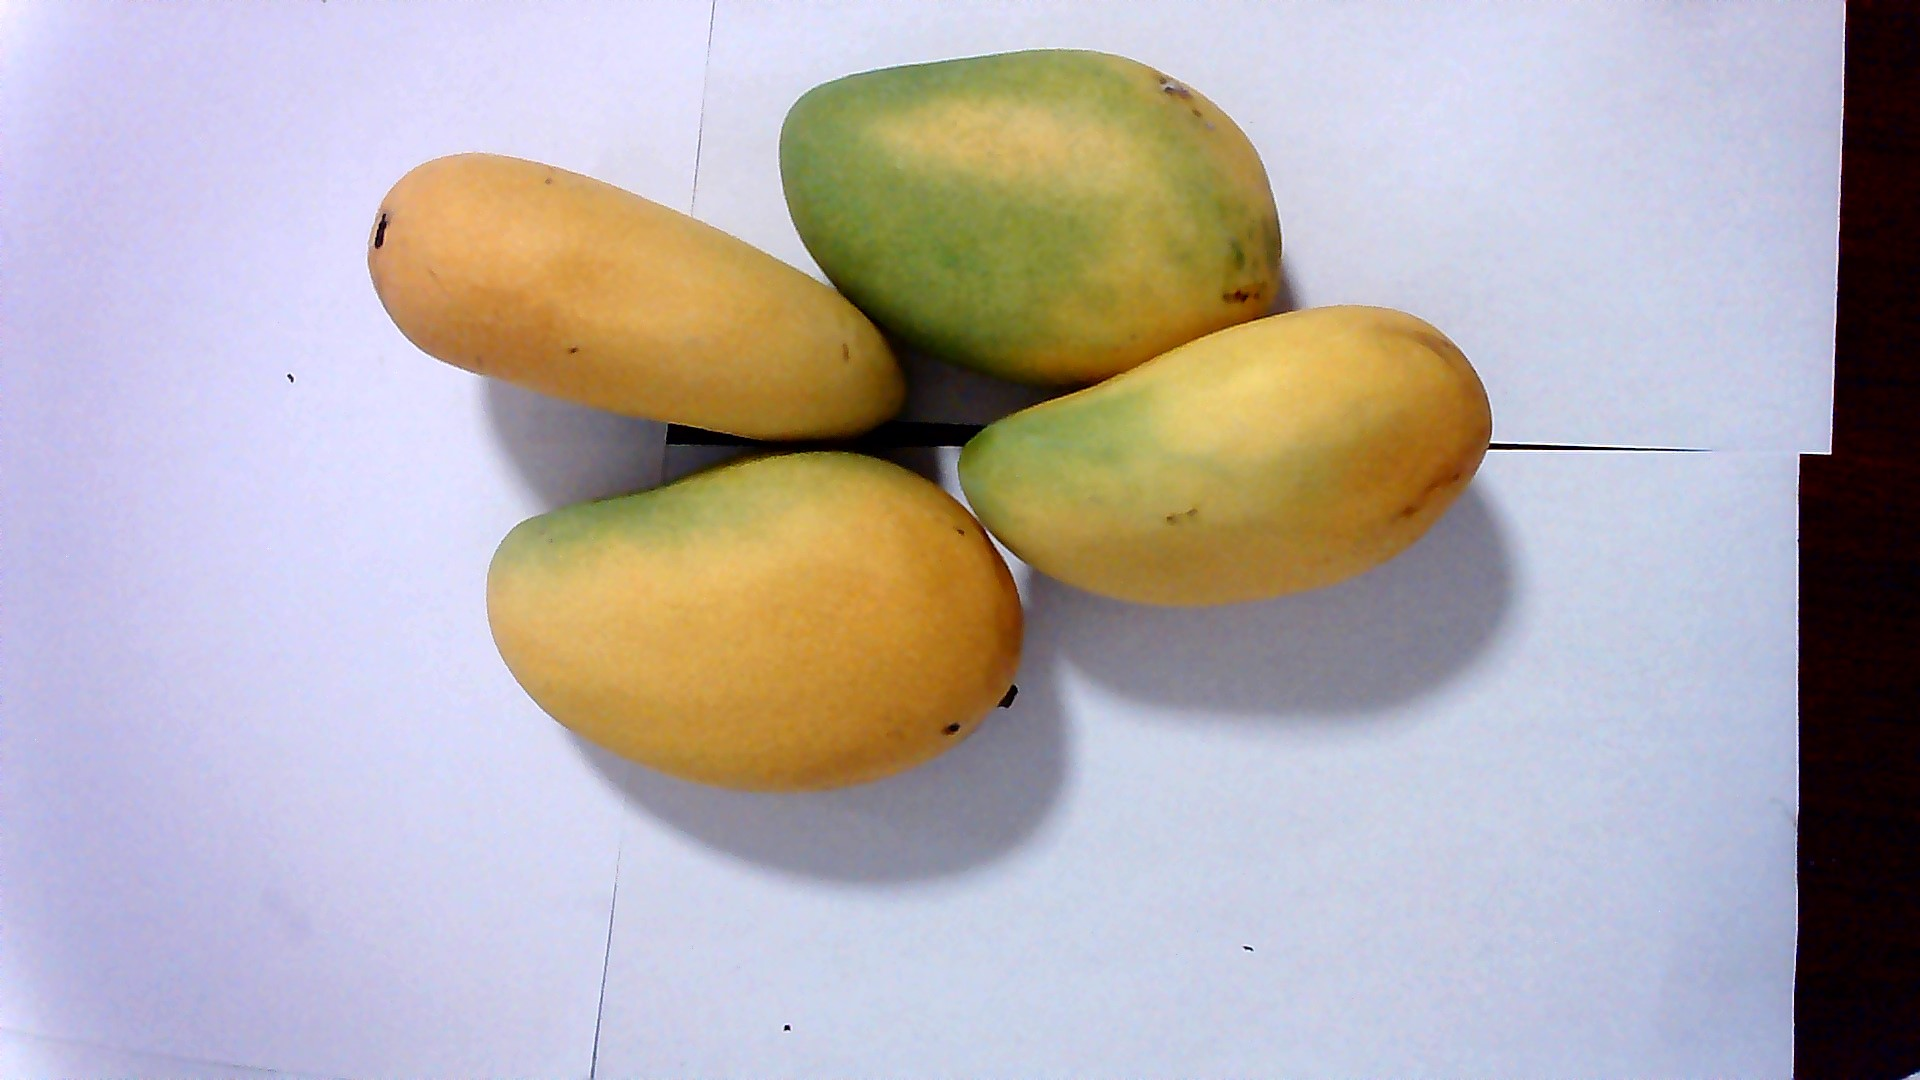mongo: (345, 145, 910, 446), (495, 476, 1038, 764), (972, 338, 1527, 612), (782, 55, 1286, 349)
